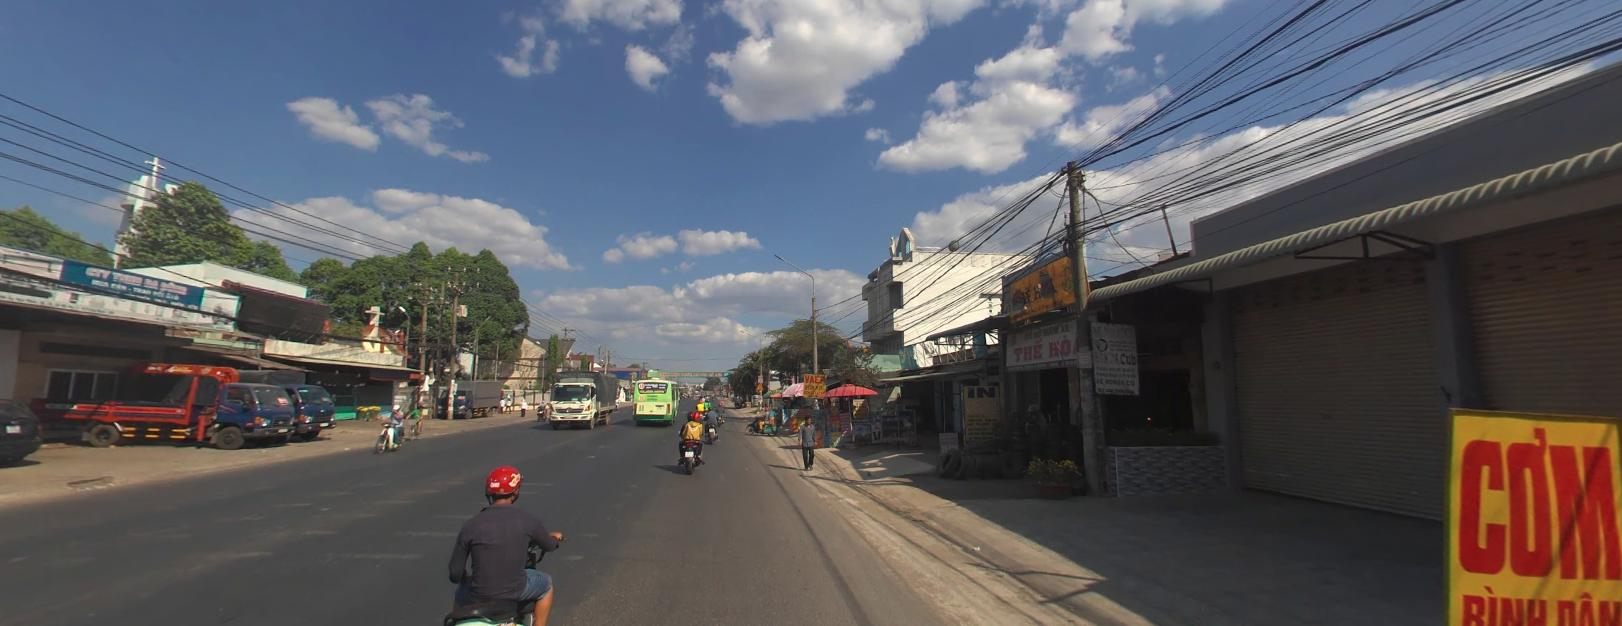Nguy hiem: (754, 381, 763, 388)
